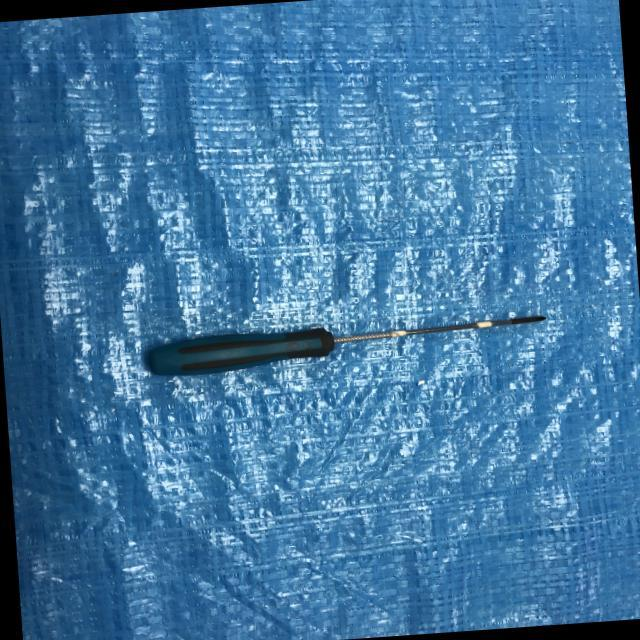screwdriver: (122, 294, 563, 408)
